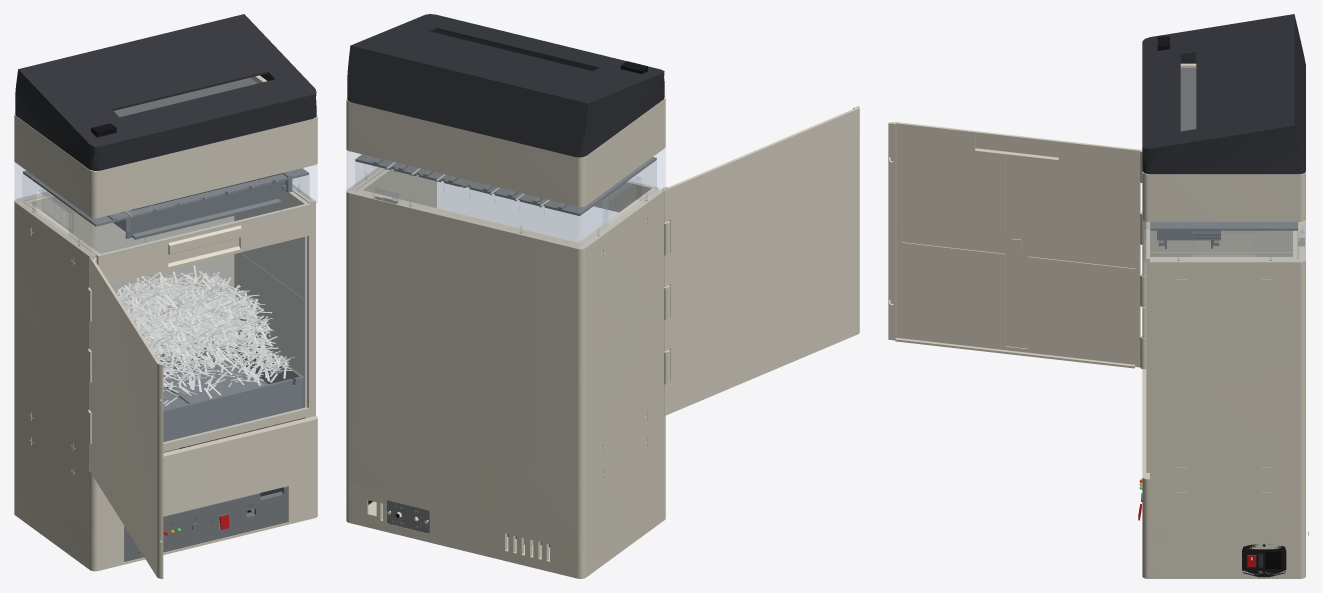
The picture shows the model from 3 angles, left to right: view 1: azimuth 30°, elevation 25°; view 2: azimuth 150°, elevation 25°; view 3: azimuth 270°, elevation 25°; orthographic projection. The views are drawn at different scales.
Parts seen in each view (by area): view 1: s2_bin, head, s2_outer, s2_door, s1_box, s4, s2_paper, s3, s2_tray, s0_fixed, s0_drawer; view 2: s2_outer, s2_door, head, s1_box, s4, s3, s0_fixed, s2_bin; view 3: s2_door, s2_outer, head, s1_box, s4, s0_fixed, s3, s2_bin.
Part boxes in pixels (x1,y1,x2,y2): s2_bin: (24,190,310,451); head: (15,14,316,170); s2_outer: (14,184,315,470); s2_door: (90,257,163,578); s1_box: (14,416,317,532); s4: (14,75,317,218); s2_paper: (116,265,294,405); s3: (15,163,316,257); s2_tray: (149,330,304,441); s0_fixed: (14,476,317,571); s0_drawer: (124,486,287,561); s2_outer: (346,167,670,475); s2_door: (662,106,859,415); head: (347,14,664,157); s1_box: (346,416,665,538); s4: (346,96,665,207); s3: (347,149,664,248); s0_fixed: (346,479,665,578); s2_bin: (356,169,658,245); s2_door: (888,122,1146,369); s2_outer: (1142,220,1305,479); head: (1142,14,1305,174); s1_box: (1142,369,1305,539); s4: (1142,63,1305,221); s0_fixed: (1142,532,1308,578); s3: (1143,221,1305,261); s2_bin: (1144,221,1297,472).
Size of the model in its own units: 0.4404 by 0.651 by 0.547.
